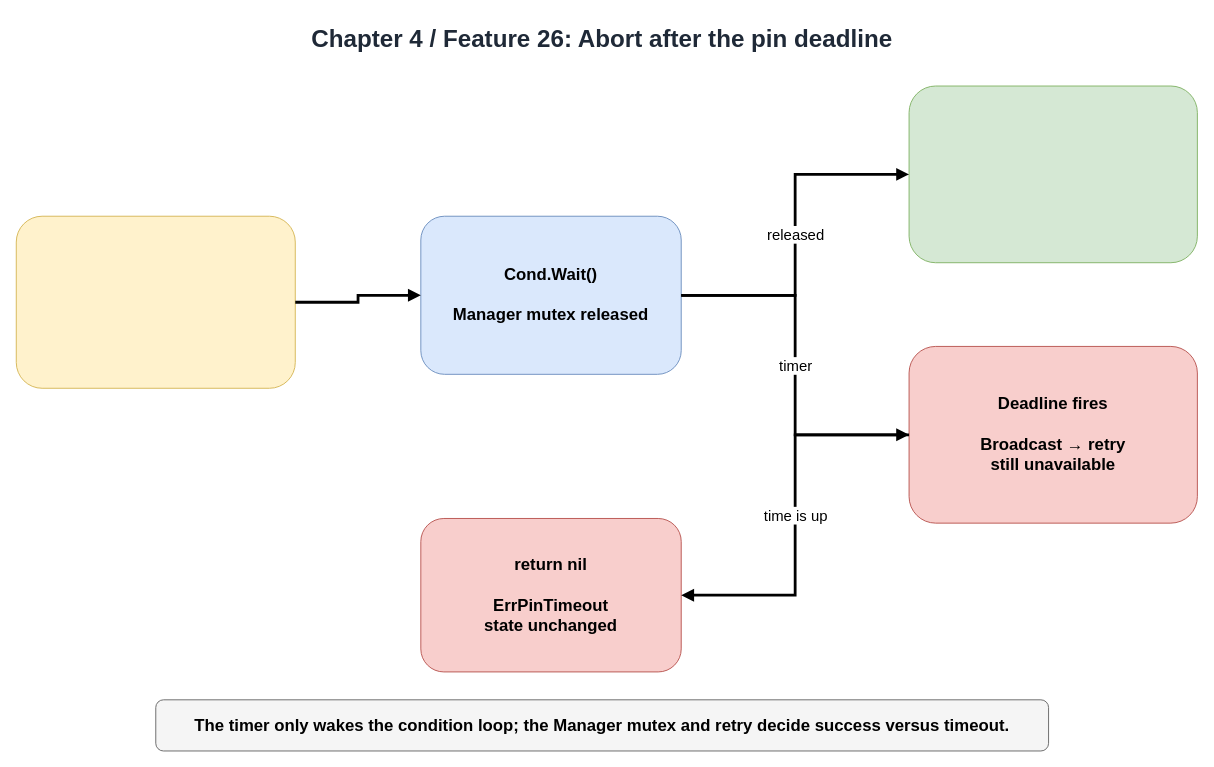
The diagram is 1214 pixels wide and 767 high, and some of its shapes have lost their labels. Here are the shapes that lost their labels. From the top down, the centre of each, then its label:
At (1052,174): "Final release before deadline Broadcast → retry return pinned frame".
At (155,301): "Pin attempt unavailable start one deadline timer default: 10 seconds".
